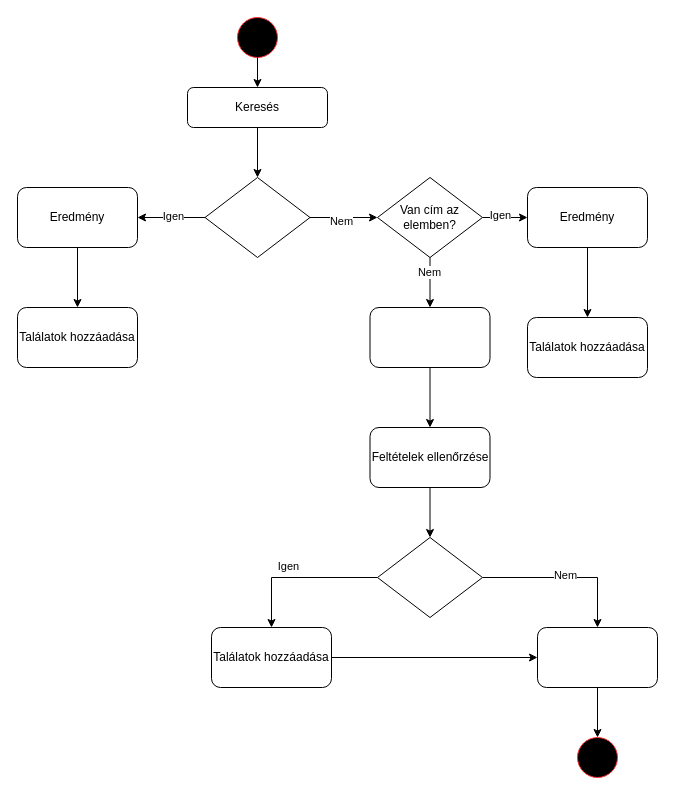
This 675x795 diagram has some shape labels left out. The centre of each missing label's shape, as x and y in pixels:
Kis/nagybetű kezelés: point (429, 337)
Következő elem: point (597, 657)
Megfelel?: point (429, 577)
Van-e a katalógusban?: point (257, 217)
